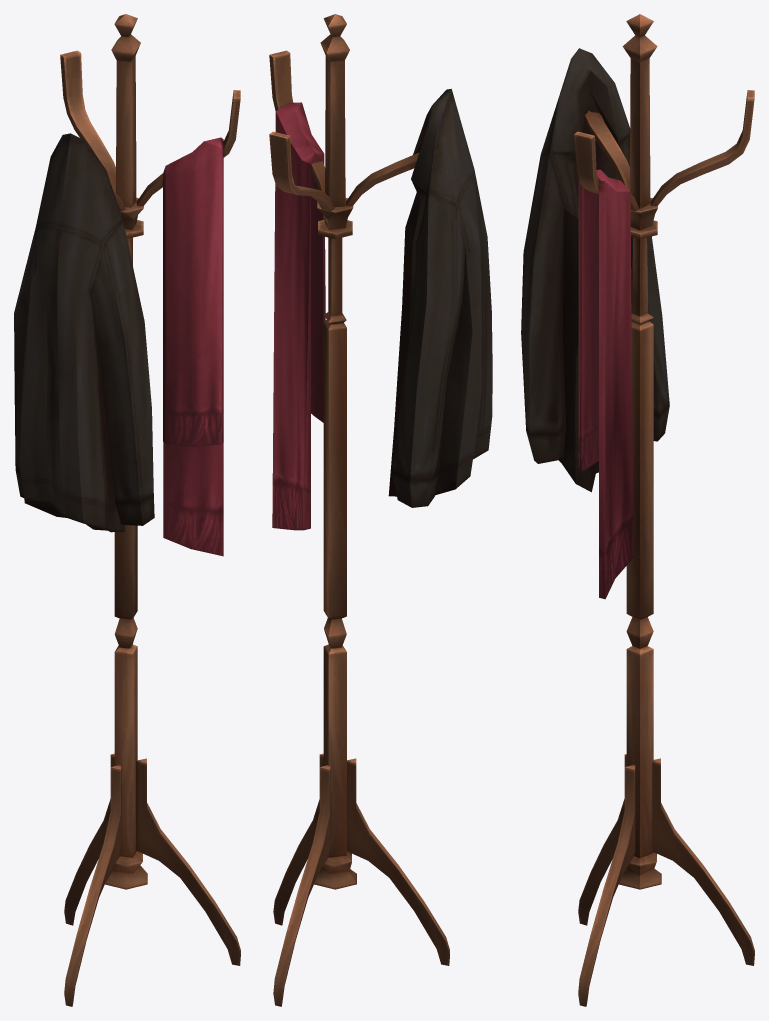
File: perchero.fbx
3 renders of one model, left to right at view 1: azimuth 30°, elevation 25°; view 2: azimuth 150°, elevation 25°; view 3: azimuth 270°, elevation 25°, orthographic.
Parts seen in each view (by area): view 1: s4studio_mesh_2; view 2: s4studio_mesh_2; view 3: s4studio_mesh_2.
Boxes of the visible parts, left/top/right/bottom form: s4studio_mesh_2: left=14, top=14, right=240, bottom=1006; s4studio_mesh_2: left=269, top=14, right=492, bottom=1006; s4studio_mesh_2: left=521, top=14, right=754, bottom=1006.
Size of the model in its own units: 48.21 by 203 by 45.2.
1 material, 1 textured.
